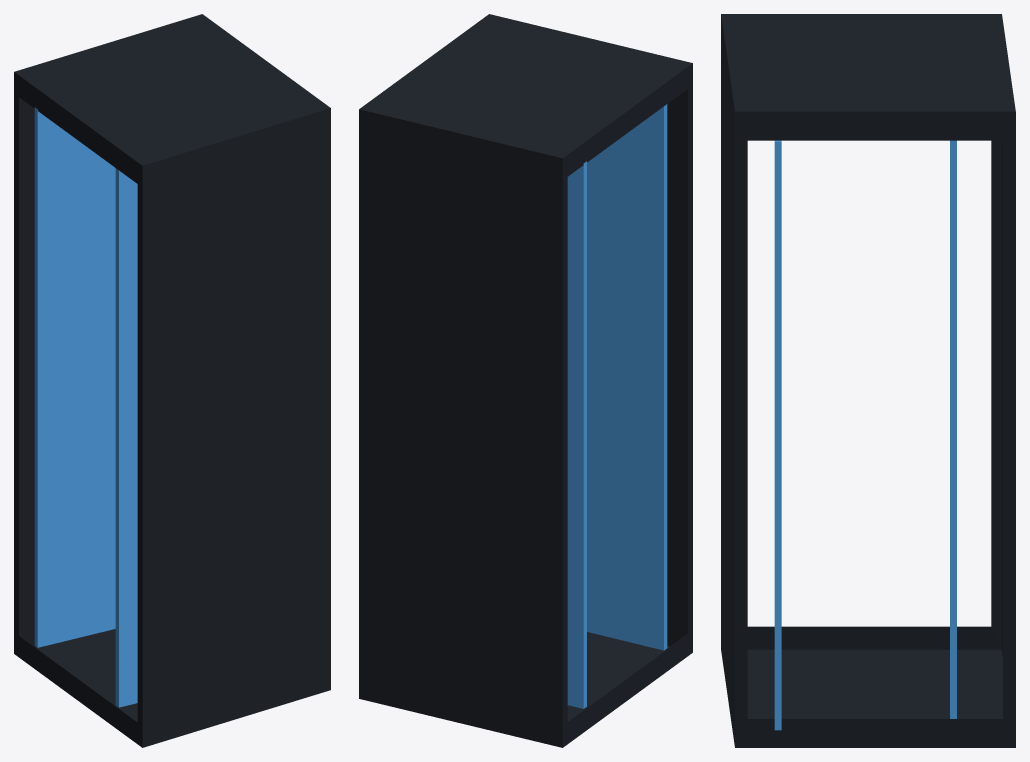
The model's file is rack.fbx.
The picture shows the model from 3 angles, left to right: view 1: azimuth 30°, elevation 25°; view 2: azimuth 150°, elevation 25°; view 3: azimuth 270°, elevation 25°; orthographic projection. The views are drawn at different scales.
Parts seen in each view (by area): view 1: Rack, Rail_kanan, Rail_kiri; view 2: Rack, Rail_kiri, Rail_kanan; view 3: Rack, Rail_kiri, Rail_kanan.
Boxes of the visible parts, x1=… form: Rack: x1=14, y1=14, x2=330, y2=747; Rail_kanan: x1=34, y1=107, x2=115, y2=647; Rail_kiri: x1=115, y1=168, x2=137, y2=707; Rack: x1=359, y1=14, x2=692, y2=747; Rail_kiri: x1=587, y1=104, x2=667, y2=650; Rail_kanan: x1=567, y1=161, x2=586, y2=708; Rack: x1=721, y1=14, x2=1015, y2=747; Rail_kiri: x1=774, y1=140, x2=781, y2=730; Rail_kanan: x1=950, y1=140, x2=956, y2=718.
Bounding box in the file's own units: 70.31 × 202 × 83.97.
